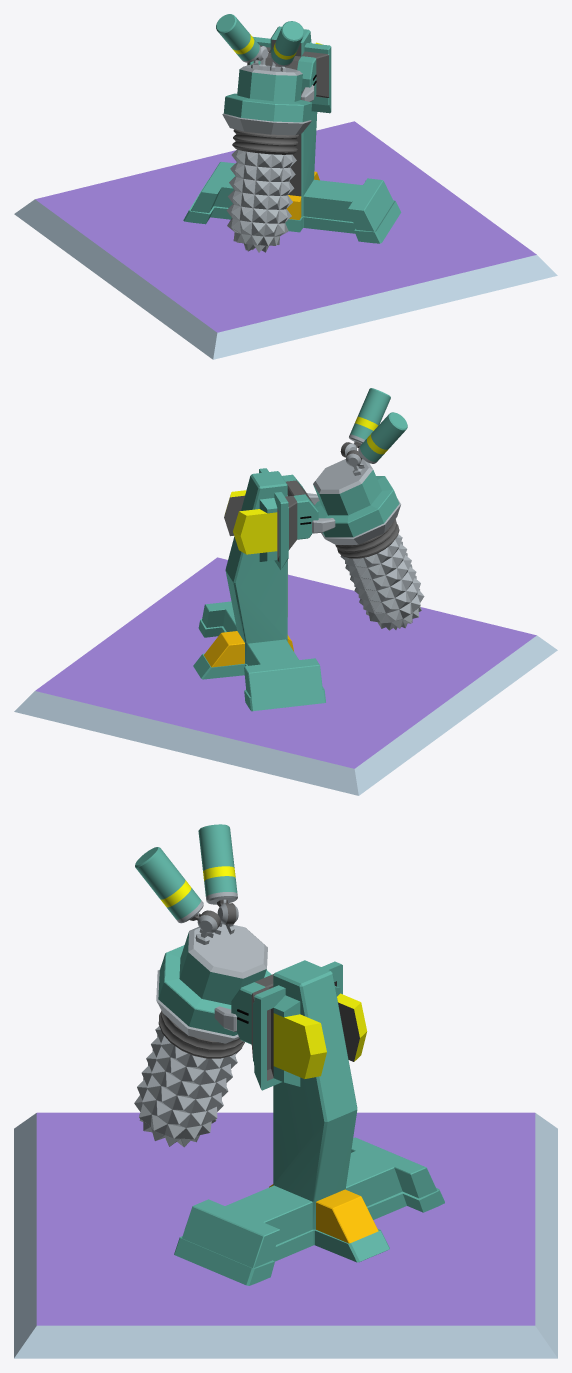
The model's file is 84_Haarvester_KEK2.fbx.
The picture shows the model from 3 angles, top to bottom: view 1: azimuth 30°, elevation 25°; view 2: azimuth 150°, elevation 25°; view 3: azimuth 270°, elevation 25°; orthographic projection. The views are drawn at different scales.
Parts seen in each view (by area): view 1: foundation2, base2, drill, polySurface74, pCylinder262 (×2), elevator3, pSphere62, pCylinder261; view 2: foundation2, base2, drill, elevator3, polySurface74, pCylinder262 (×2), pCylinder261, pSphere62; view 3: foundation2, base2, elevator3, drill, polySurface74, pCylinder262 (×2), pCylinder261, pSphere62.
Part boxes in pixels (x1,y1,x2,y2): foundation2: (14, 121, 557, 359); base2: (183, 26, 401, 243); drill: (222, 65, 312, 135); polySurface74: (226, 149, 296, 223); pCylinder262 (×2): (216, 14, 304, 66); elevator3: (247, 37, 331, 113); pSphere62: (227, 218, 288, 252); pCylinder261: (232, 129, 298, 154); foundation2: (14, 557, 557, 795); base2: (193, 471, 325, 711); drill: (313, 459, 400, 544); elevator3: (224, 468, 318, 569); polySurface74: (340, 534, 420, 613); pCylinder262 (×2): (349, 388, 407, 463); pCylinder261: (335, 519, 399, 558); pSphere62: (366, 589, 424, 630); foundation2: (14, 1112, 557, 1358); base2: (174, 960, 444, 1285); elevator3: (231, 961, 367, 1090); drill: (156, 924, 271, 1043); polySurface74: (137, 1026, 241, 1127); pCylinder262 (×2): (135, 824, 237, 923); pCylinder261: (158, 1010, 244, 1058); pSphere62: (134, 1095, 216, 1147).
Bounding box in the file's own units: 2 × 1.49 × 2.
